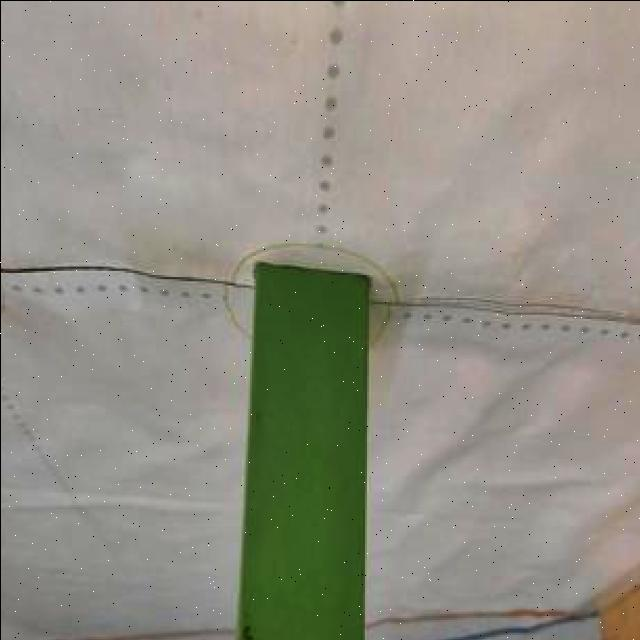greenbox: (234, 266, 372, 640)
